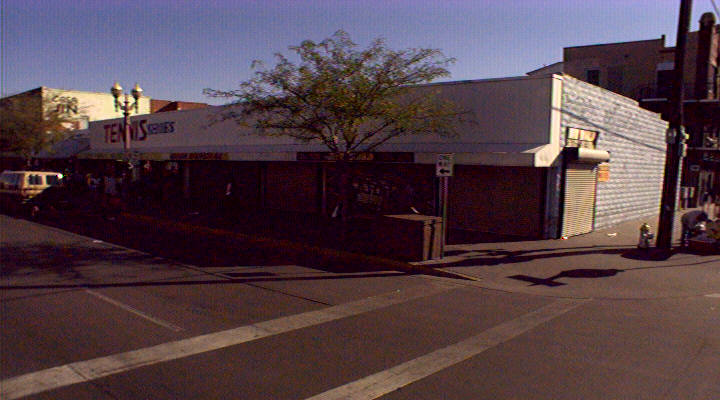Ramp: (453, 242, 720, 306)
